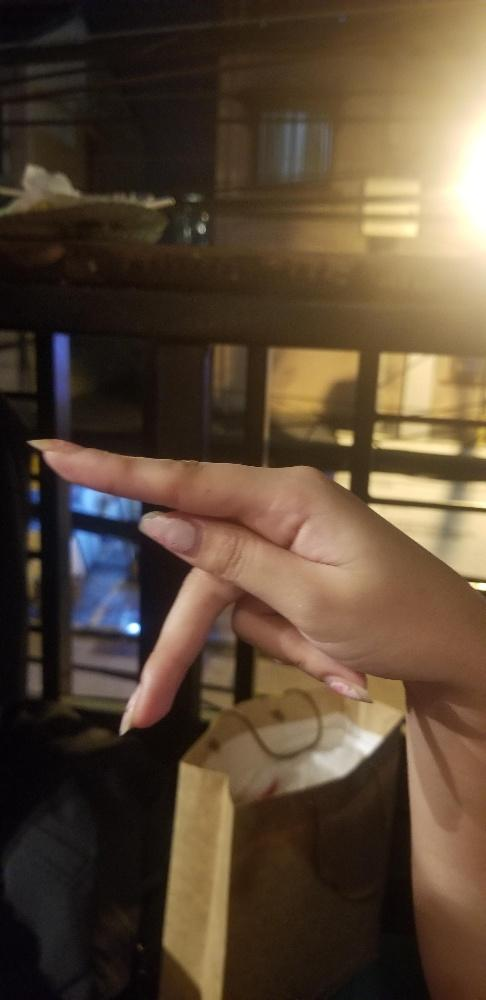p: (22, 428, 481, 740)
